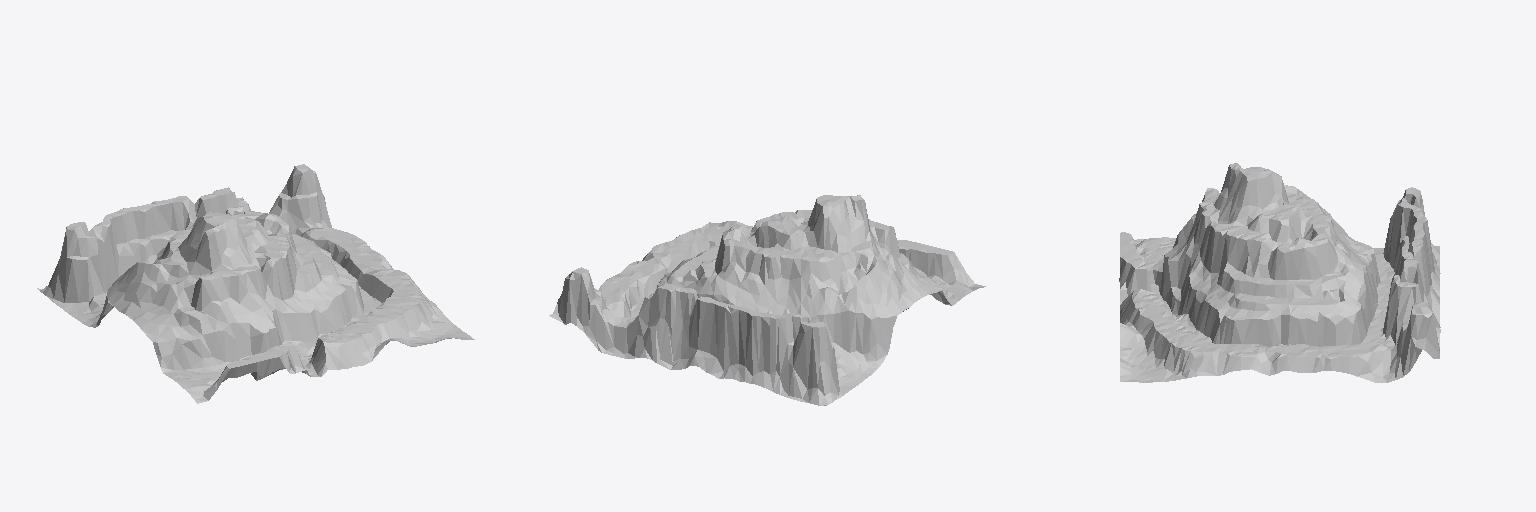
File: Jungle.obj
The picture shows the model from 3 angles: view 1: azimuth 30°, elevation 25°; view 2: azimuth 150°, elevation 25°; view 3: azimuth 270°, elevation 25°; orthographic projection.
Parts seen in each view (by area): view 1: 1.006; view 2: 1.006; view 3: 1.006.
Boxes of the visible parts, x1,y1,x2,y2 form: 1.006: [37, 164, 474, 403]; 1.006: [549, 195, 985, 405]; 1.006: [1119, 163, 1440, 382].
Size of the model in its own units: 100 by 41.2 by 100.